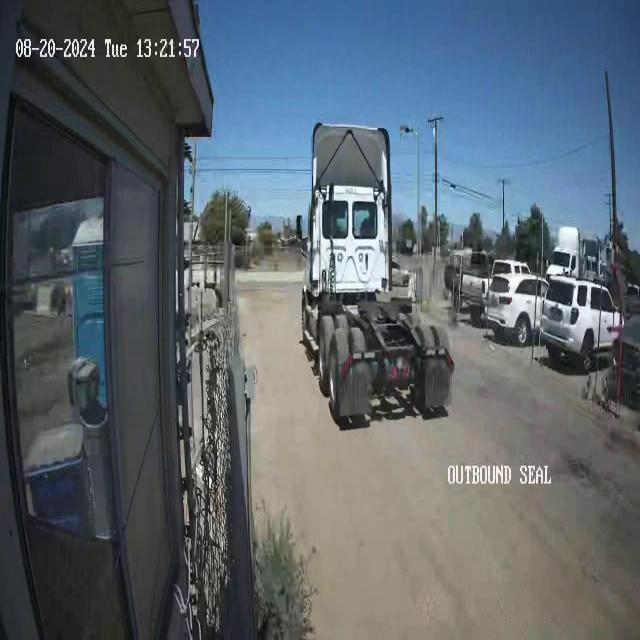BOBTAIL: (296, 120, 455, 427)
